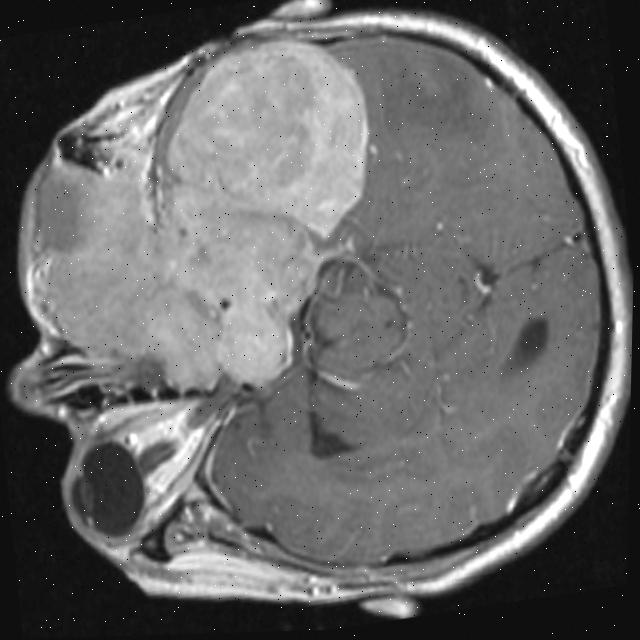Meningioma: (131, 22, 400, 400), (0, 144, 171, 373)
